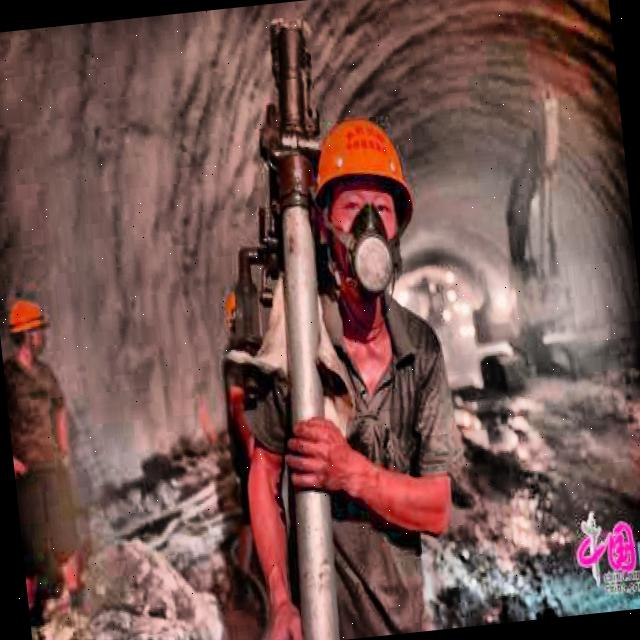helmet: (291, 94, 428, 326), (2, 292, 51, 362)
